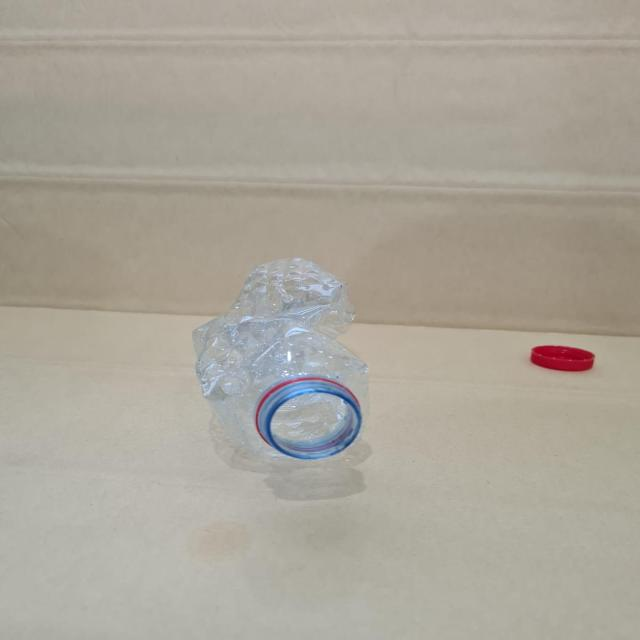bottle: (182, 253, 371, 482)
